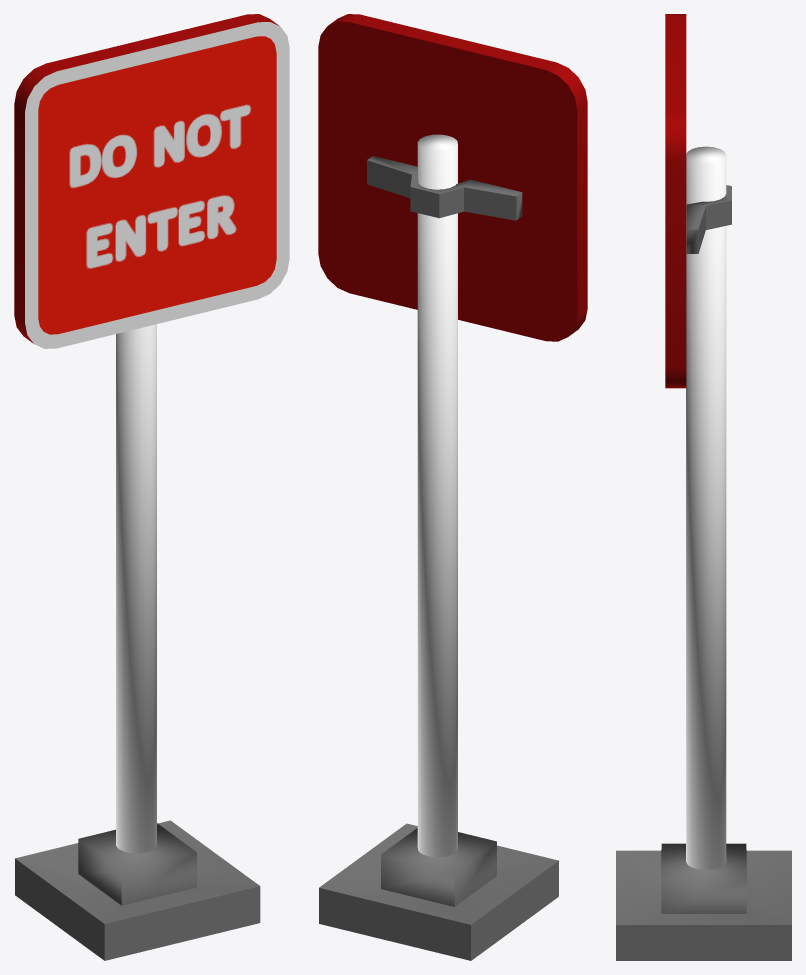
Rendered from Sign_5.fbx.
3 renders of one model, left to right at view 1: azimuth 30°, elevation 25°; view 2: azimuth 150°, elevation 25°; view 3: azimuth 270°, elevation 25°, orthographic. The views are drawn at different scales.
Visible parts, largest first — view 1: Sign_5; view 2: Sign_5; view 3: Sign_5.
Boxes of the visible parts, x1,y1,x2,y2 form: Sign_5: (14,14,289,960); Sign_5: (318,14,587,960); Sign_5: (616,14,791,960).
Size of the model in its own units: 0.9961 by 0.5853 by 3.15.
